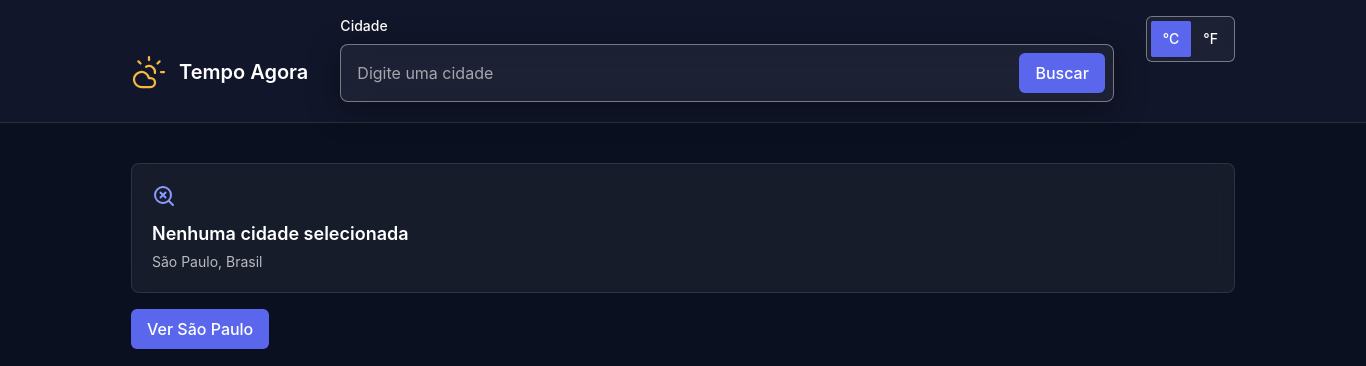
Scenario: App › mantém o foco no combobox após resultados chegarem pelo botão Buscar
The image size is (1366, 366).
Type "São Paulo" into the dropdown labelled "Cidade" at (680, 73), box x1=349 y1=53 x2=1012 y2=93
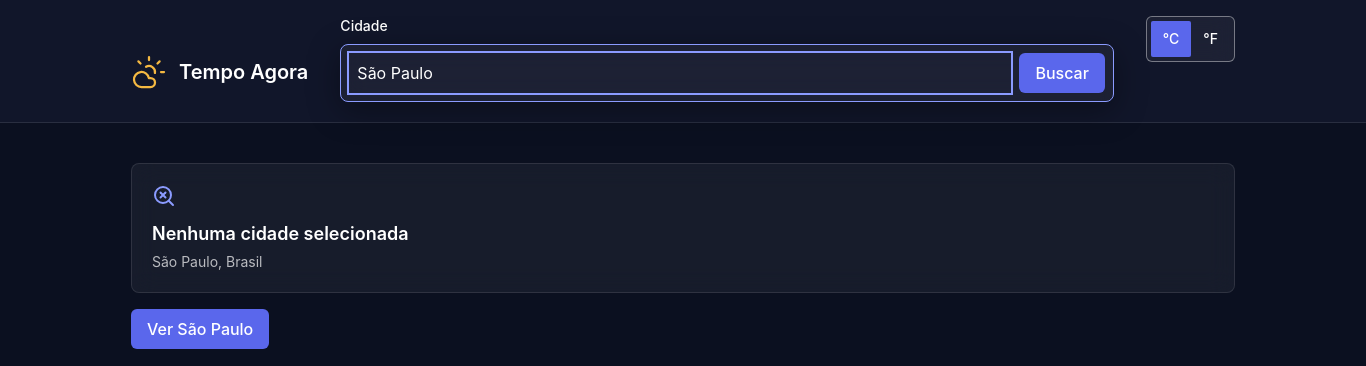
Click the button "Buscar" at (1062, 73), box x1=1019 y1=53 x2=1105 y2=93
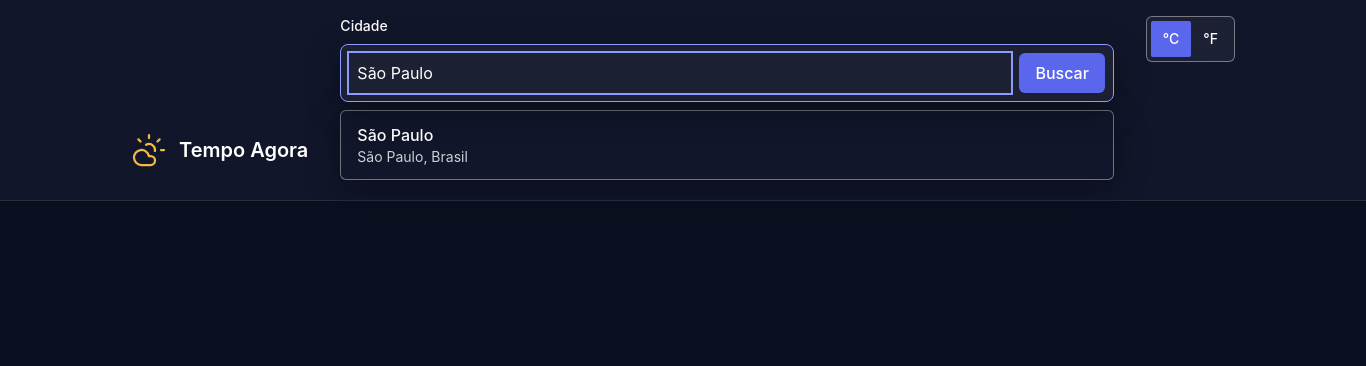
expect the list named "Cidades encontradas" is shown: met, box x1=340 y1=110 x2=1114 y2=180
